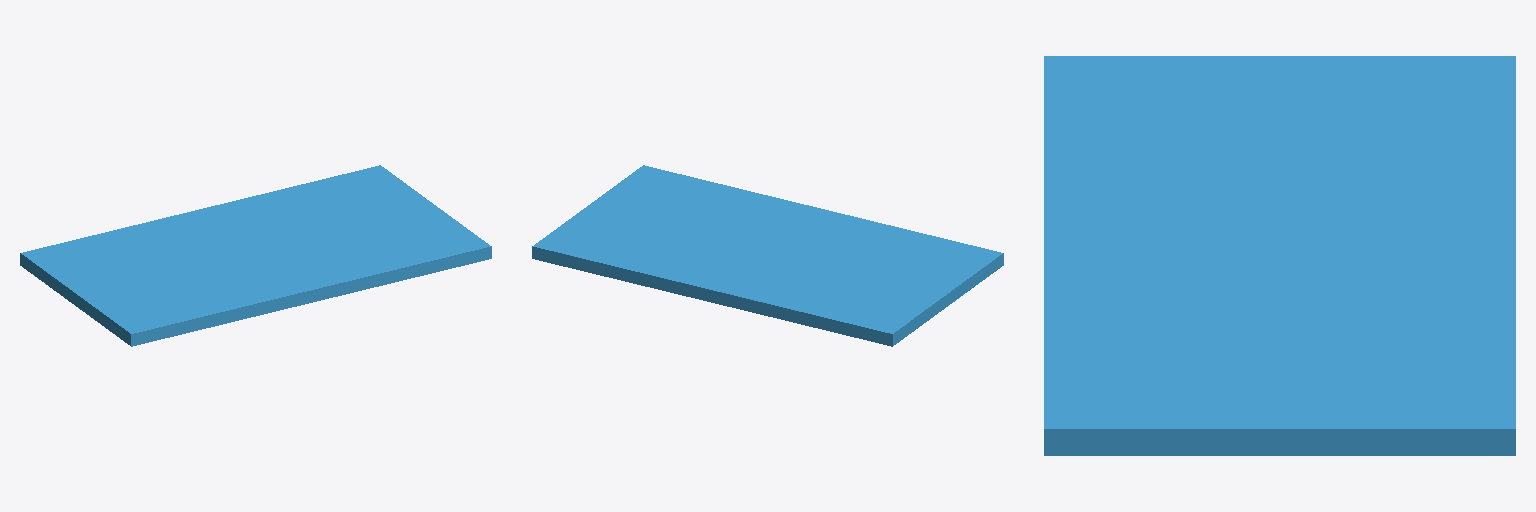
URDF robot description (cylinder_7):
    
    <robot name="cylinder_7">
        <link name="cylinder_7">    
            <fem>
                <origin rpy="0.0 0.0 0.0" xyz="0 0 0" />
                <density value="100" />
                <youngs value="3000"/>
                <poissons value="0.3" />
                <damping value="0.0" />
                <attachDistance value="0.01" />
                <tetmesh filename="[local-path]/sim_data/Custom/Custom_mesh/multi_cylinders/cylinder_7.tet" />
                <scale value="0.5"/>
            </fem>
        </link>

        <link name="fix_frame">
            <visual>
                <origin xyz="0.0 0.0 10.05"/>
                <geometry>
                    <box size="0.15 0.08 0.005"/>
                </geometry>
            </visual>
            <collision>
                <origin xyz="0.0 0.0 0.05"/>
                <geometry>
                    <box size="0.15 0.08 0.005"/>
                </geometry>
            </collision>
            <inertial>
                <mass value="500000"/>
                <inertia ixx="0.05" ixy="0.0" ixz="0.0" iyy="0.05" iyz="0.0" izz="0.05"/>
            </inertial>
        </link>
        
        <joint name = "attach" type = "fixed">
            <origin xyz = "0.0 0.0 0.0" rpy = "0 0 0"/>
            <parent link ="cylinder_7"/>
            <child link = "fix_frame"/>
        </joint>  




    </robot>
    

--- Facts derived from the render (not from the file) ---
The picture shows the robot from 3 angles, left to right: view 1: azimuth 30°, elevation 25°; view 2: azimuth 150°, elevation 25°; view 3: azimuth 270°, elevation 25°; orthographic projection.
Robot: cylinder_7 — 2 links, 1 joints (1 fixed); root link cylinder_7; default pose: all joints at 0.
Links seen in each view (by area): view 1: fix_frame; view 2: fix_frame; view 3: fix_frame.
Link boxes in pixels (x1,y1,x2,y2): fix_frame: (20,165,491,346); fix_frame: (532,165,1003,346); fix_frame: (1044,56,1515,455).
Bounding box of the posed robot: 0.15 × 0.08 × 0.005 m (x, y, z).
Geometry: primitives only (box / cylinder / sphere), no mesh files.